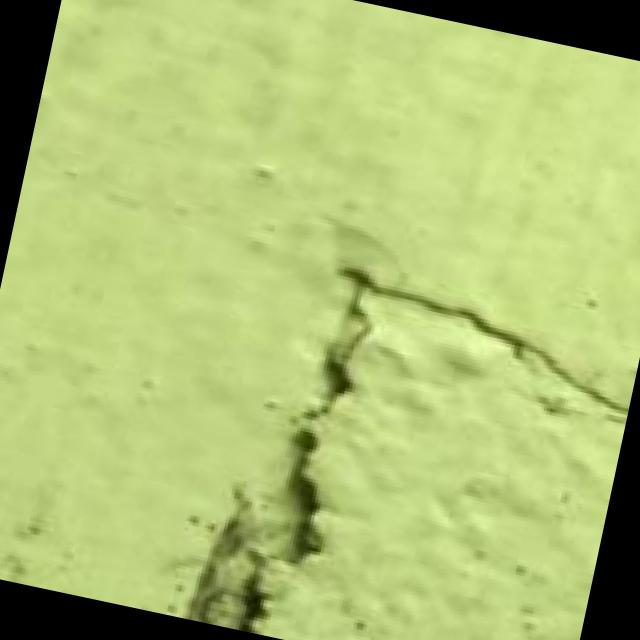crack: (190, 212, 634, 640)
